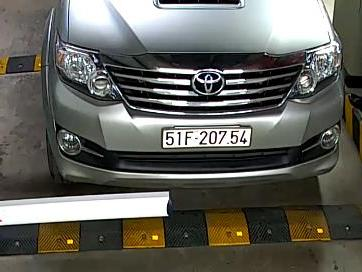number: (161, 127, 253, 148)
